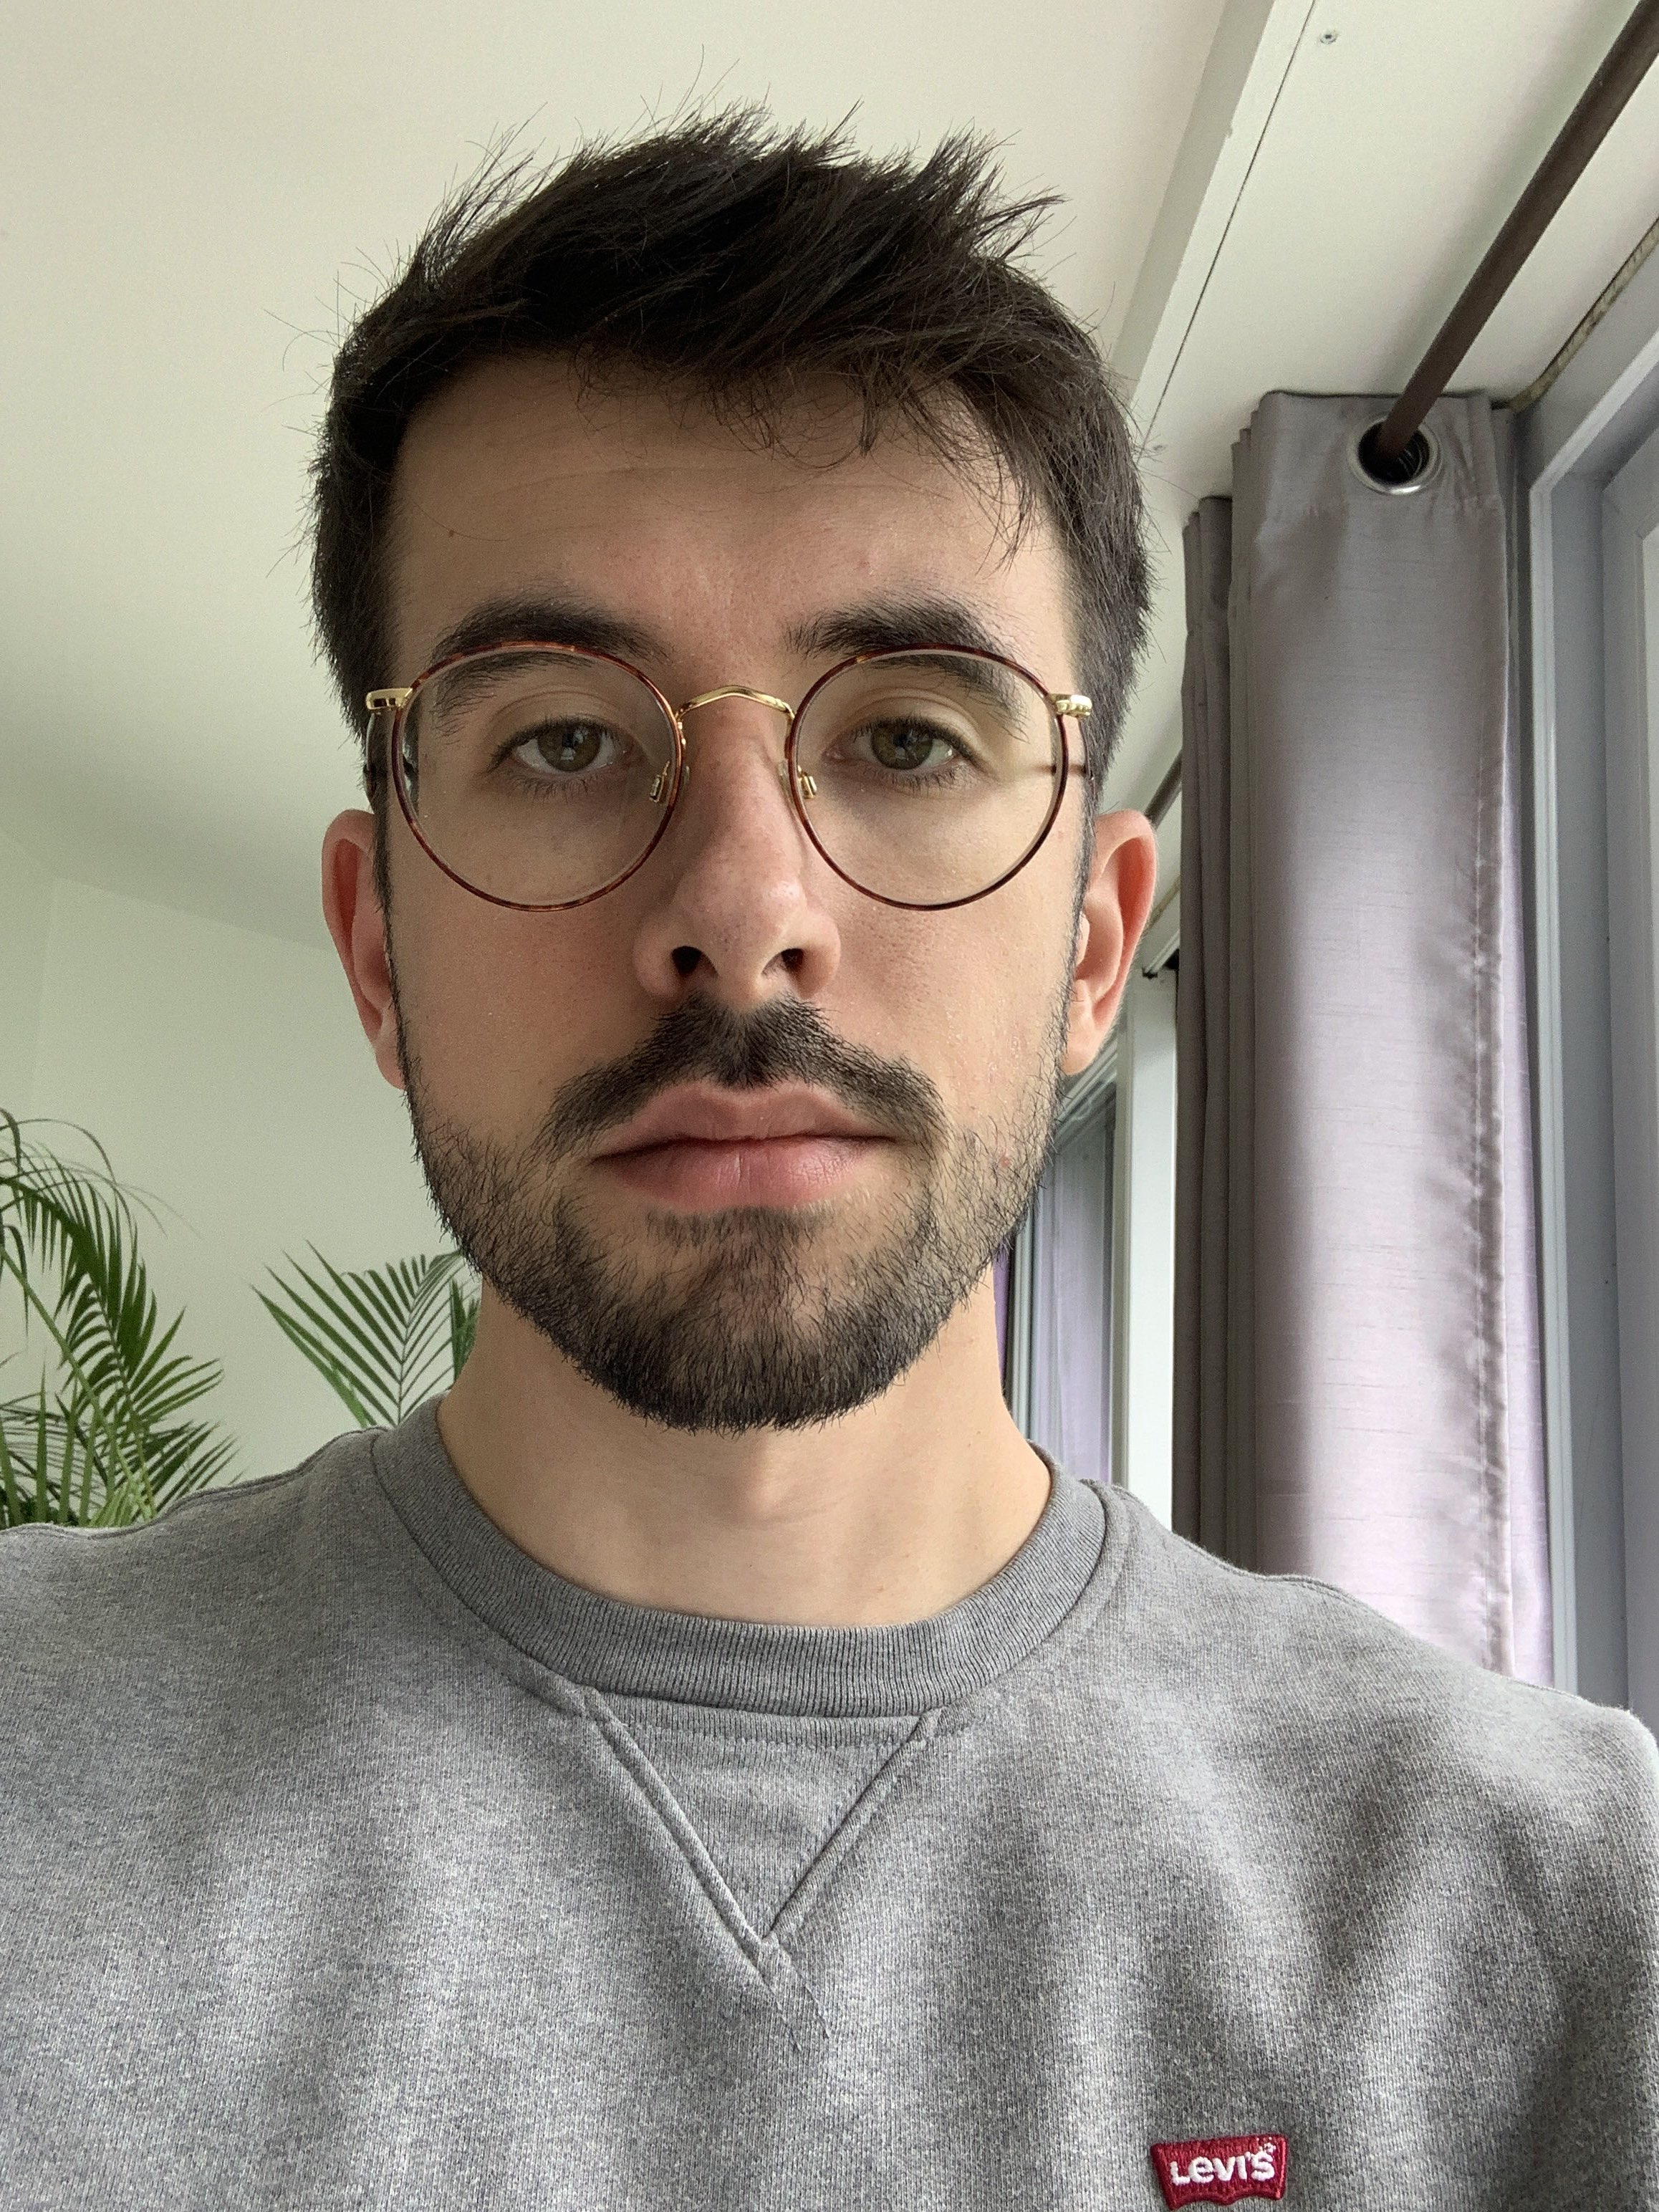without_mask: (342, 299, 1133, 1443)
